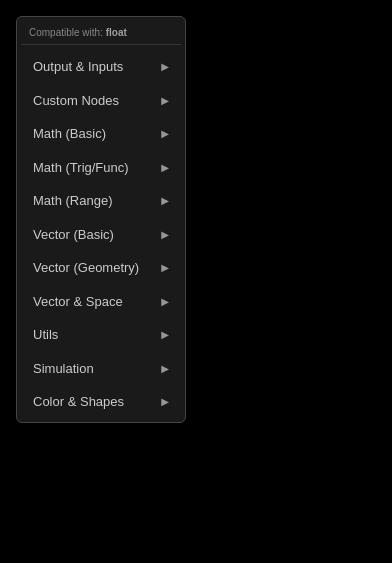
Scenario: ContextMenu - direction-aware filtering › dragging FROM an output (filterDirection="source", float) › shows Value Watcher (float→vec4 przez auto-adapter)
Step 1. Hover over the text "Utils" → [46, 335], box x1=33 y1=325 x2=58 y2=344
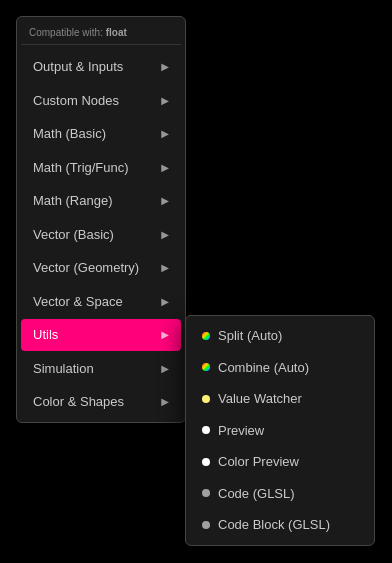
Expected: the text "Value Watcher" is shown, x1=202 y1=391 x2=302 y2=406
